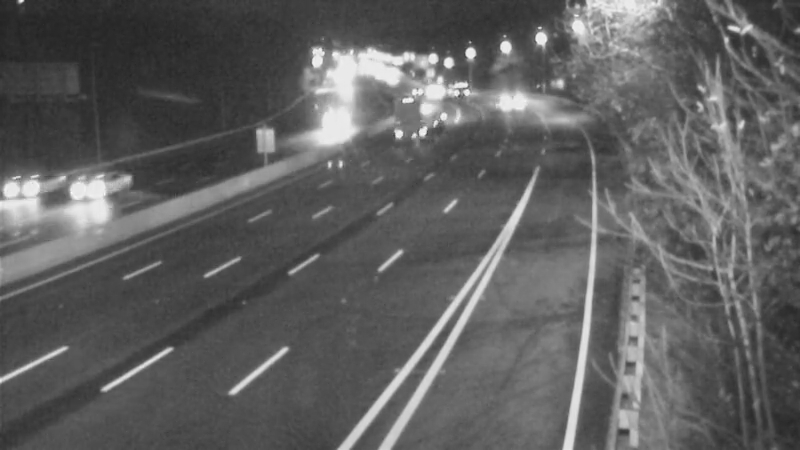vehicle: (39, 151, 119, 231), (1, 151, 70, 231), (476, 70, 526, 120), (384, 88, 434, 138), (313, 101, 363, 151)
